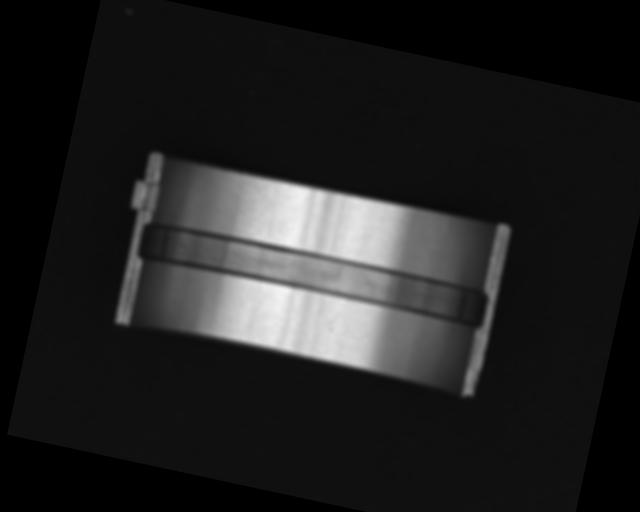gap: (133, 216, 492, 332)
